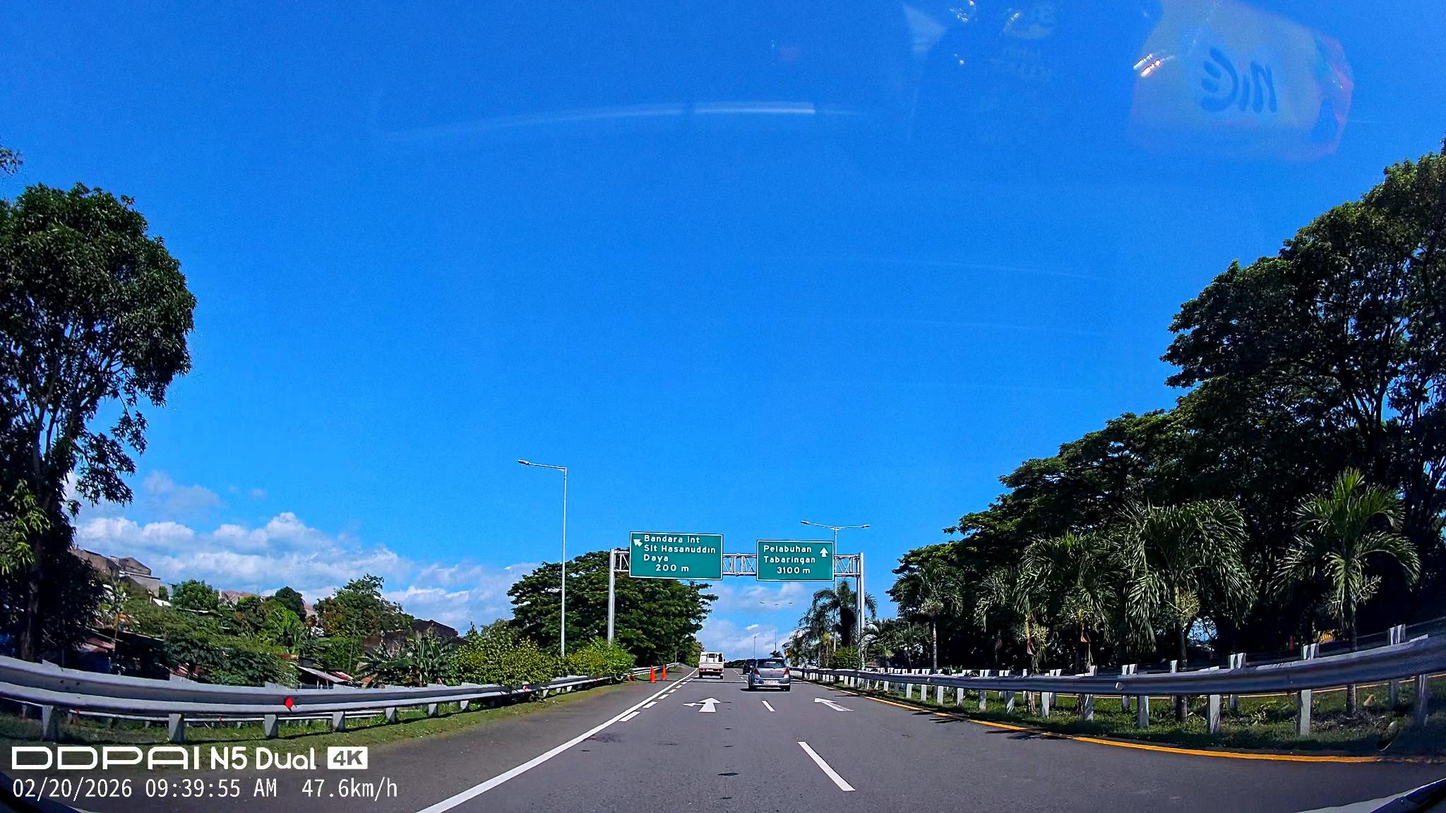rambu_teks: (630, 531, 724, 580), (756, 540, 835, 581)
